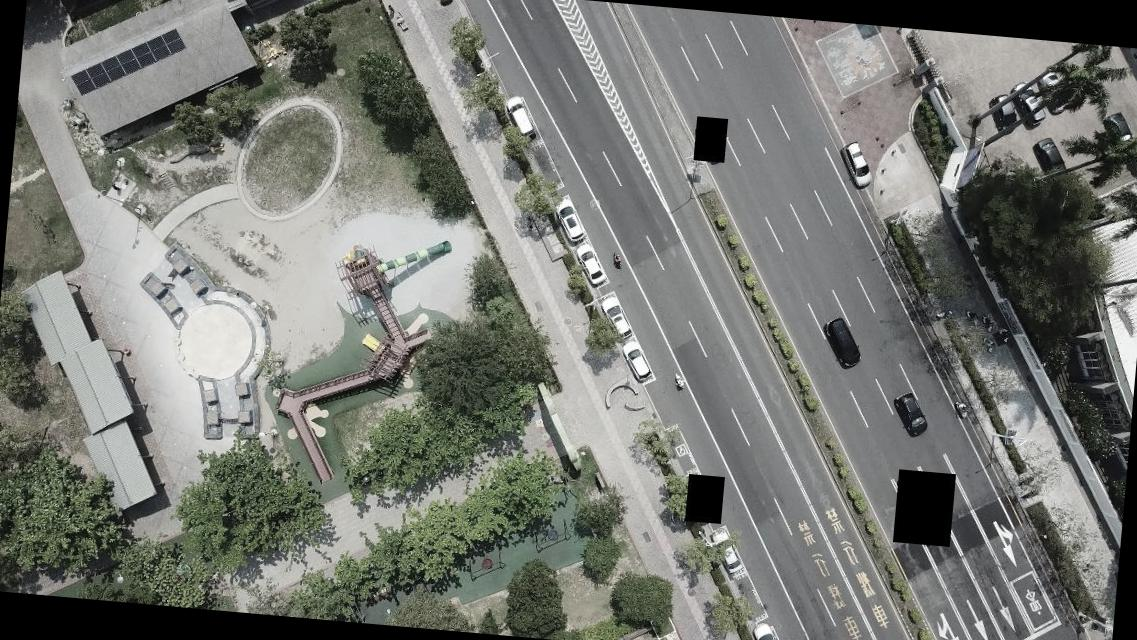vehicle: (820, 318, 864, 374), (573, 241, 608, 291), (838, 140, 874, 188), (1037, 65, 1074, 111), (706, 528, 742, 574), (892, 392, 928, 436), (1011, 81, 1047, 124), (1102, 111, 1136, 153), (1034, 133, 1068, 173), (601, 295, 631, 338), (621, 342, 653, 382), (553, 200, 585, 240), (503, 96, 535, 136), (991, 90, 1018, 130), (747, 622, 786, 639)
